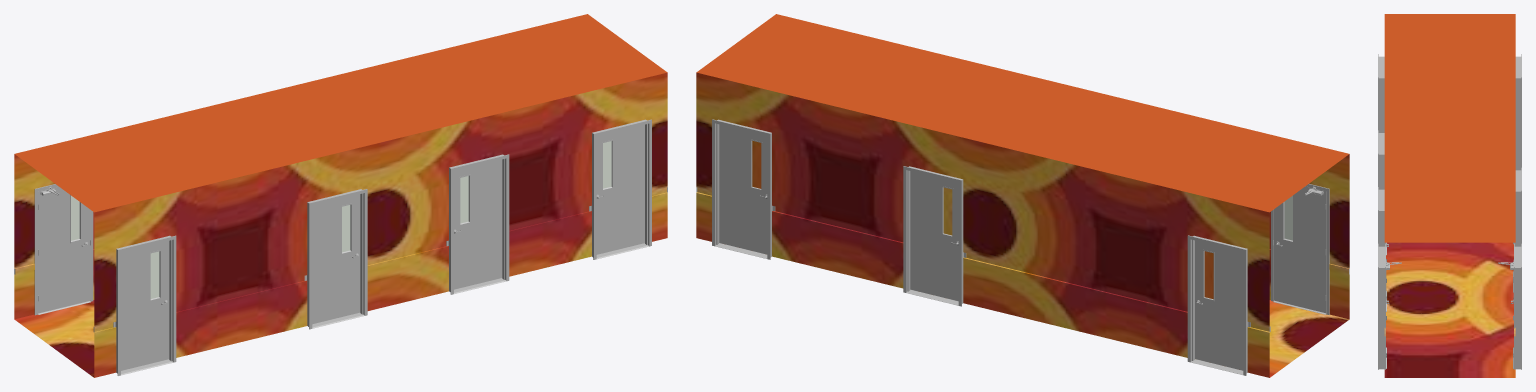
File: Hall.002.fbx
3 views of the same model, side by side, from view 1: azimuth 30°, elevation 25°; view 2: azimuth 150°, elevation 25°; view 3: azimuth 270°, elevation 25° (orthographic). The views are drawn at different scales.
Parts seen in each view (by area): view 1: Hall.002; view 2: Hall.002; view 3: Hall.002.
Boxes of the visible parts, x1,y1,x2,y2 form: Hall.002: [14, 14, 667, 377]; Hall.002: [696, 14, 1349, 377]; Hall.002: [1378, 14, 1521, 377].
Size of the model in its own units: 1000 by 276 by 266.
